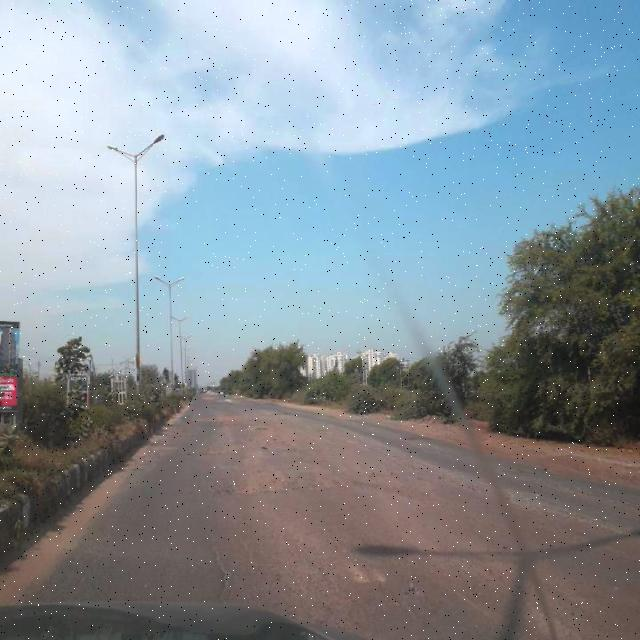D00: (202, 527, 236, 606)
D20: (244, 508, 366, 624)
D40: (216, 454, 472, 503), (192, 414, 357, 454)
